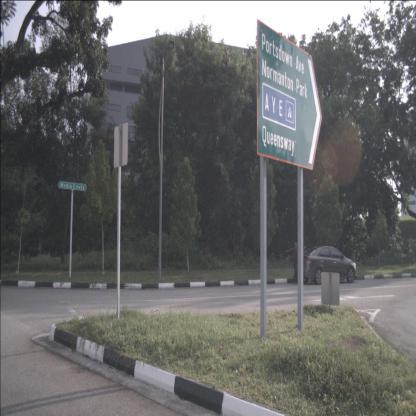human-pedestrian-adult: (292, 241, 299, 284)
vehicle-car: (300, 244, 357, 284)
